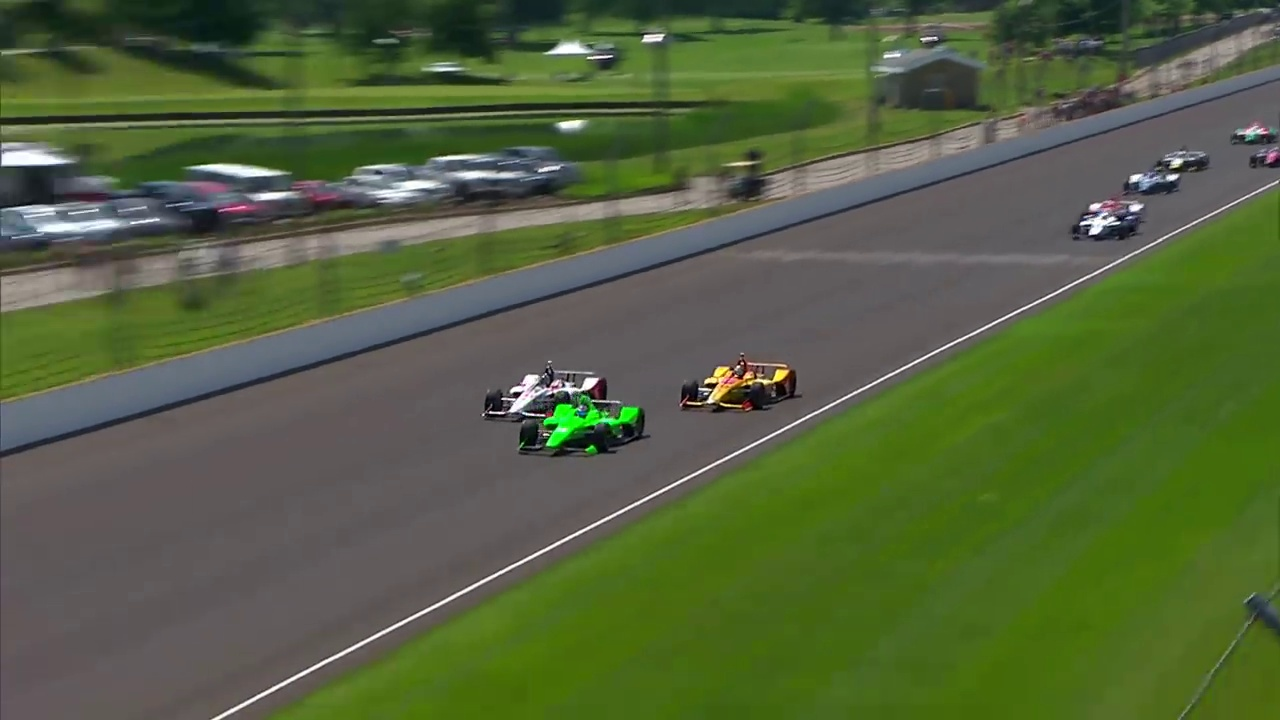car: (515, 393, 646, 459), (480, 355, 611, 420), (672, 352, 803, 417), (1070, 189, 1146, 244), (1116, 163, 1180, 194), (1158, 142, 1206, 174)
